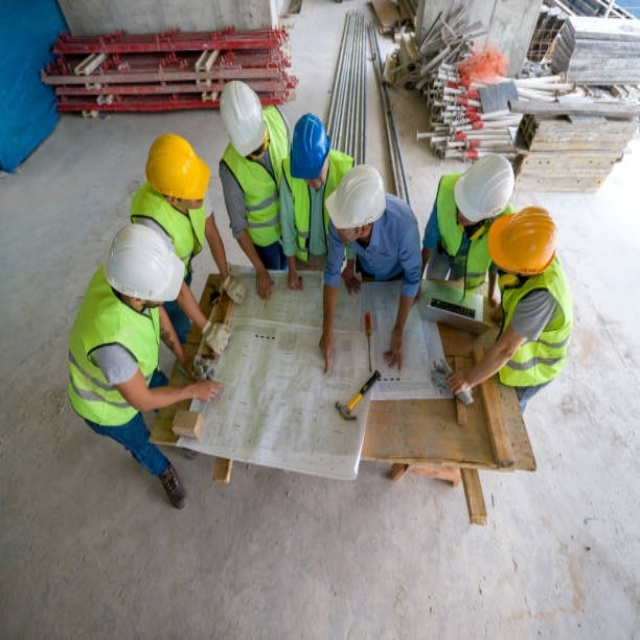Guantes: (198, 318, 233, 356), (220, 269, 247, 307)
Sin_guantes: (187, 379, 225, 407), (443, 368, 471, 399), (318, 330, 336, 375), (383, 333, 403, 370), (256, 276, 276, 307), (341, 265, 362, 294), (287, 265, 304, 290)
